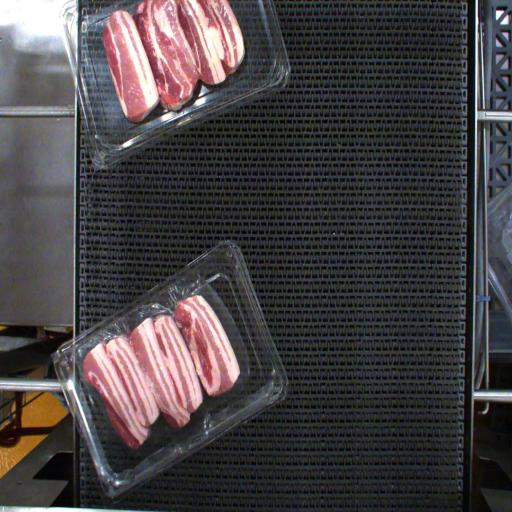unsealed: (57, 265, 265, 434)
